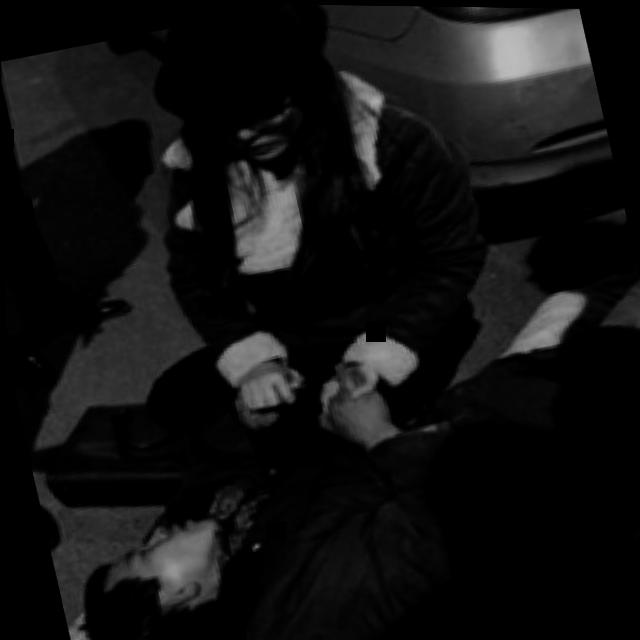Fall-Detected: (10, 257, 640, 640)
